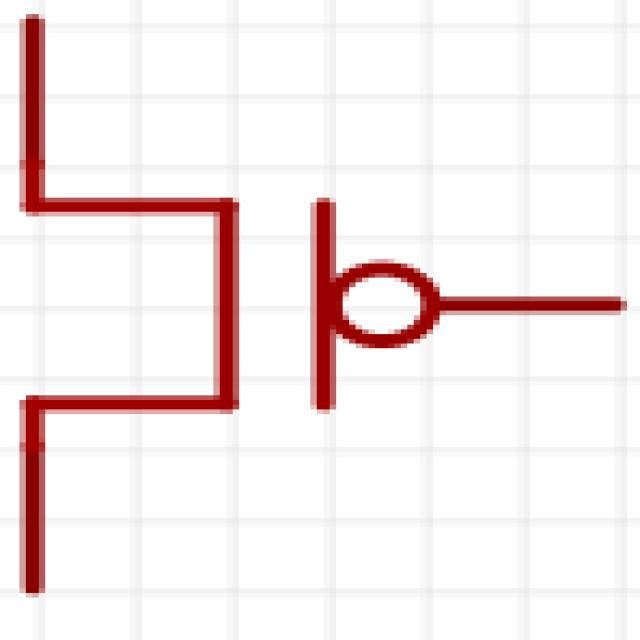pmos: (0, 52, 640, 635)
